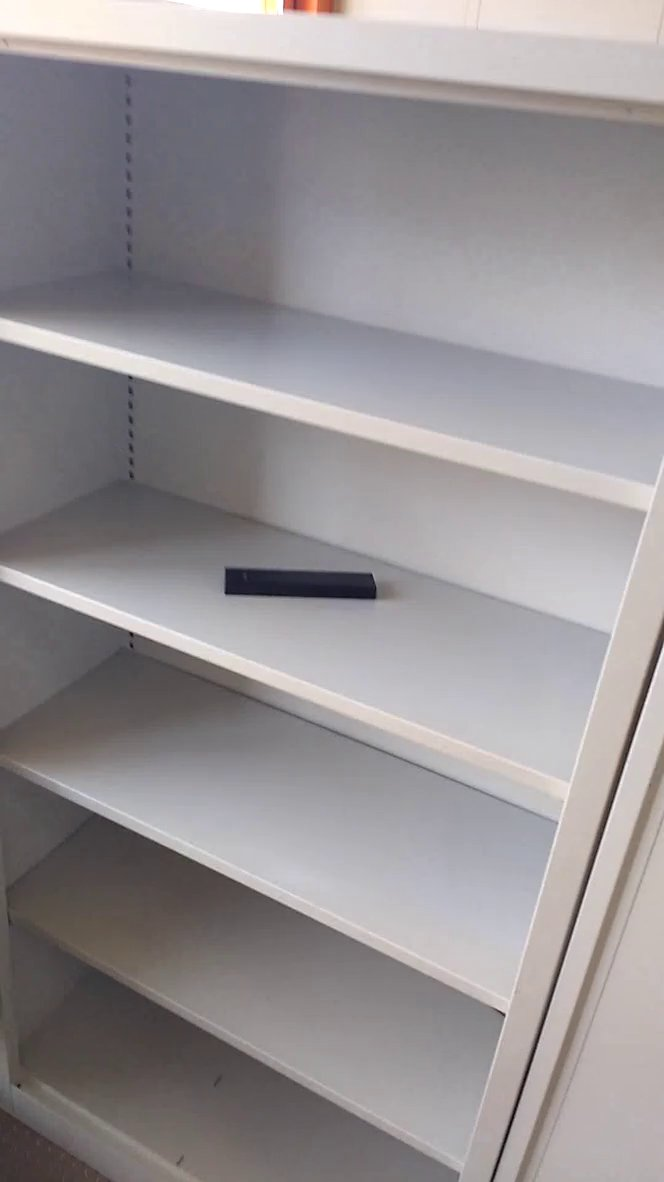remote: (212, 558, 390, 612)
